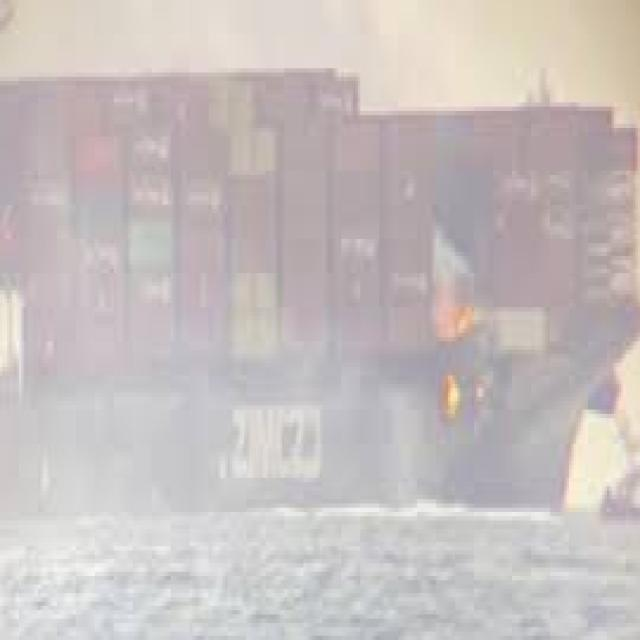cargoship: (0, 51, 640, 508)
